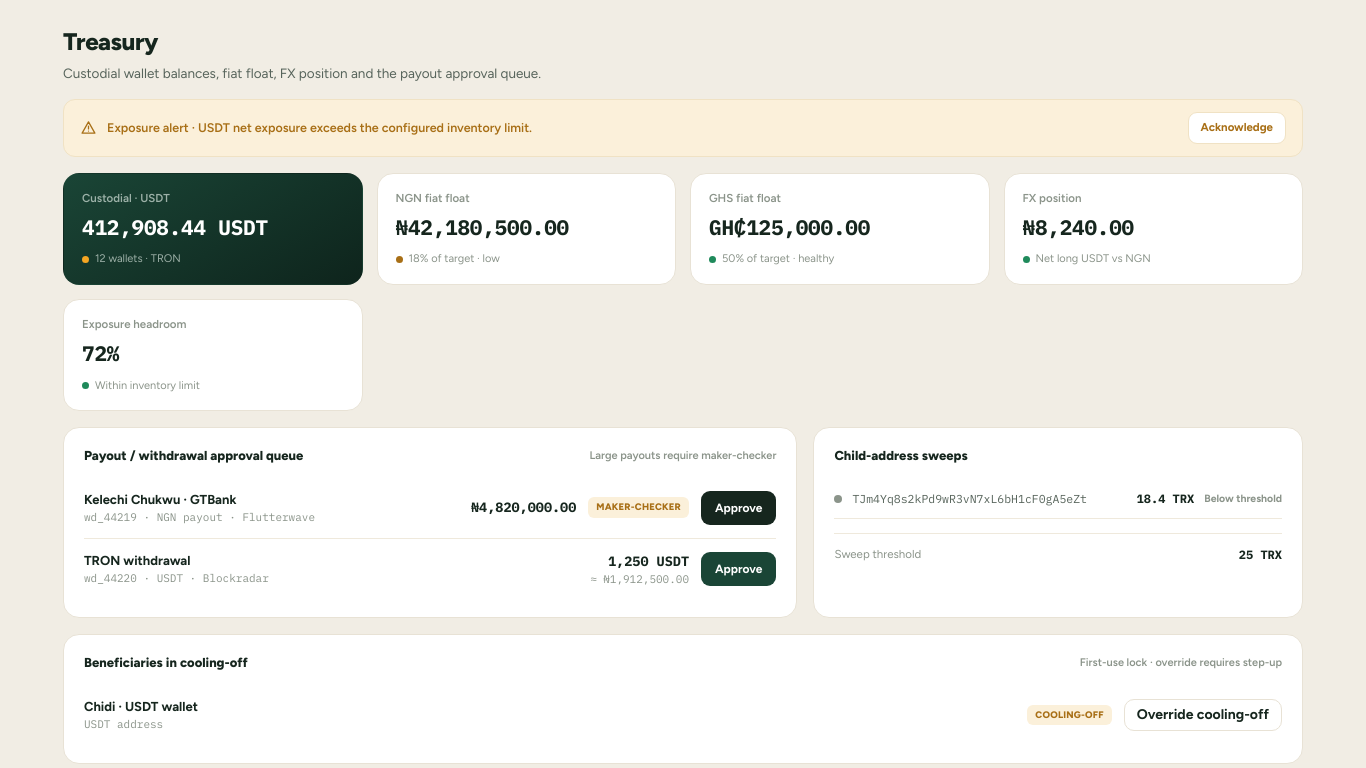
Test: TreasuryPage (write wiring) › marks the right row Requested after a 403 step-up replay (stashed row id)
The image size is (1366, 768).
Click the button "Approve" in the row of "₦4,820,000.00": (739, 508) [701, 490, 776, 524]
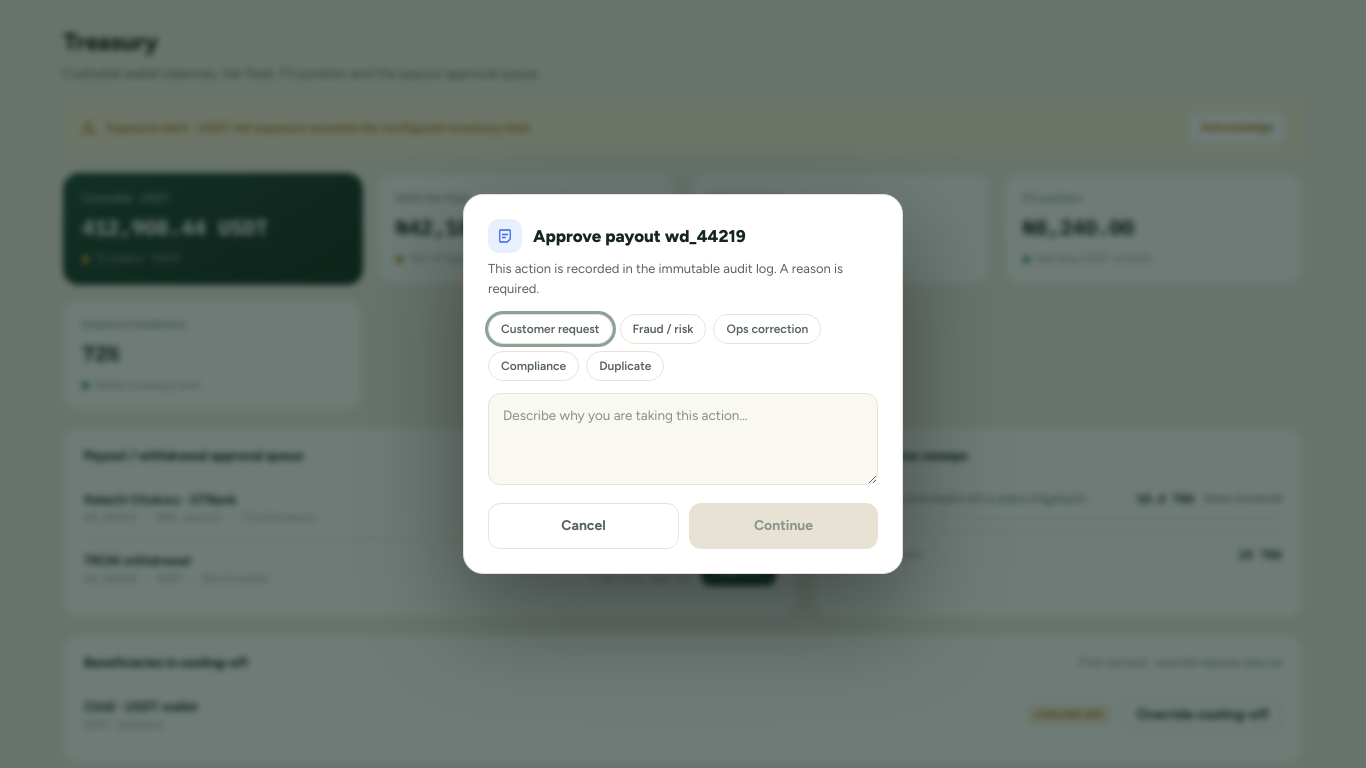
In the text box named "Reason": (683, 439) [488, 393, 878, 485], type "Checked totals"
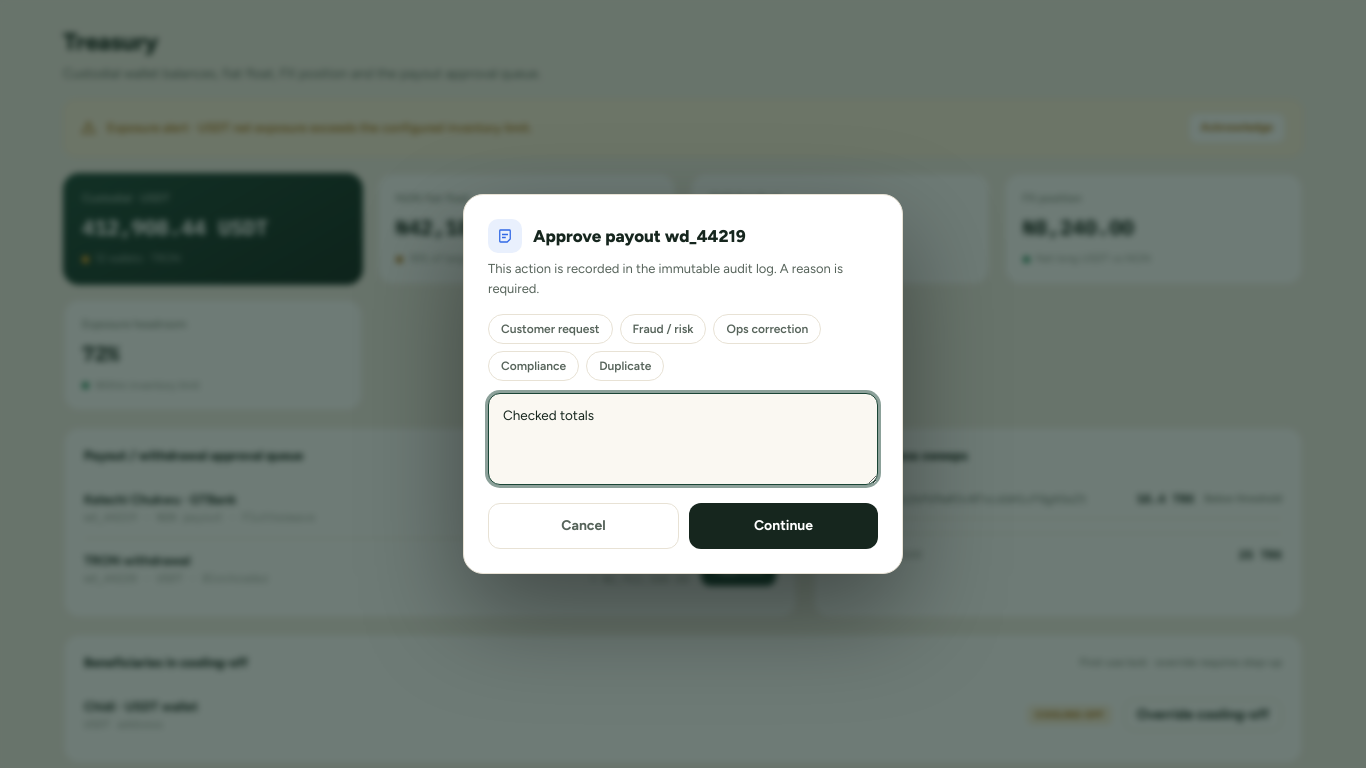
Click the button "Continue": (784, 526) [689, 503, 878, 549]
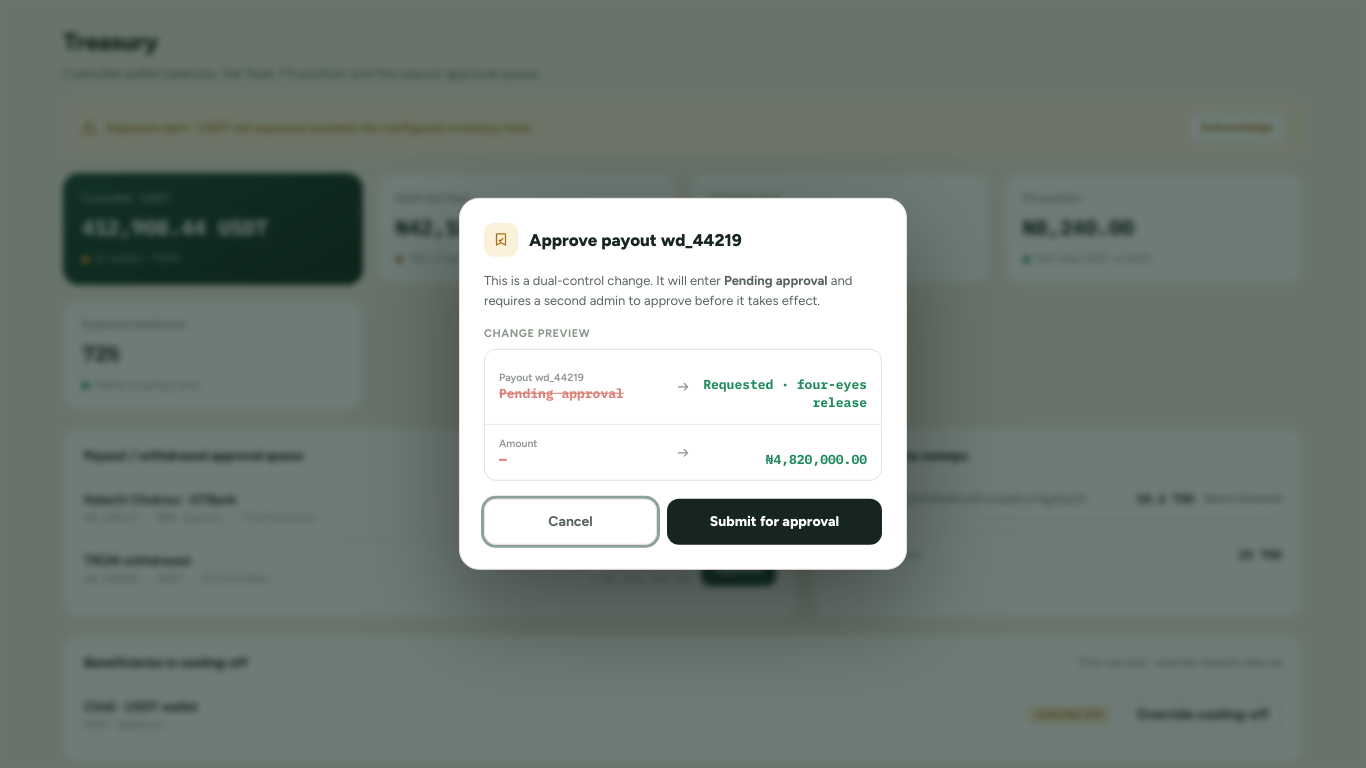
Click the button "Submit for approval": (774, 522) [667, 499, 882, 545]
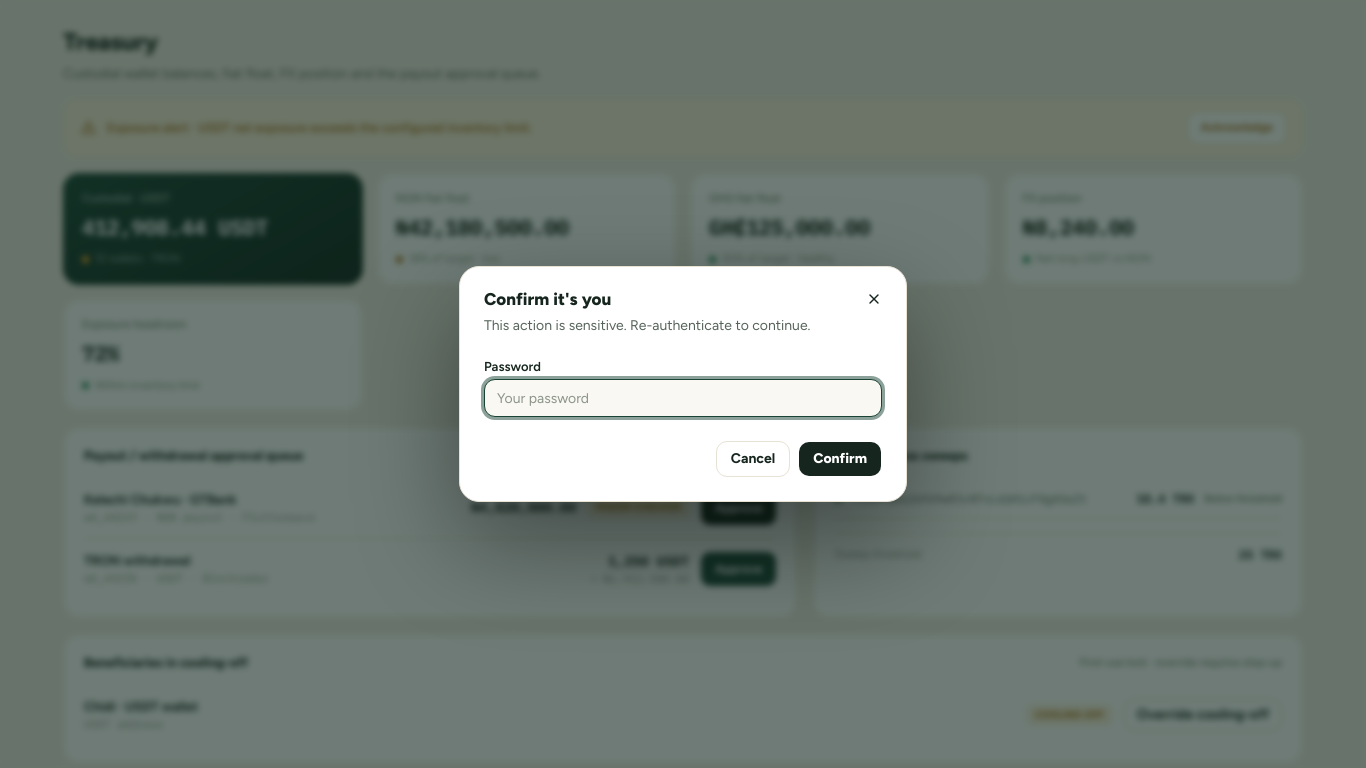
Expected: the dialog is shown, [459, 266, 907, 502]
In the password field labelled "Password": (683, 398) [484, 379, 882, 417], type "supersecret"
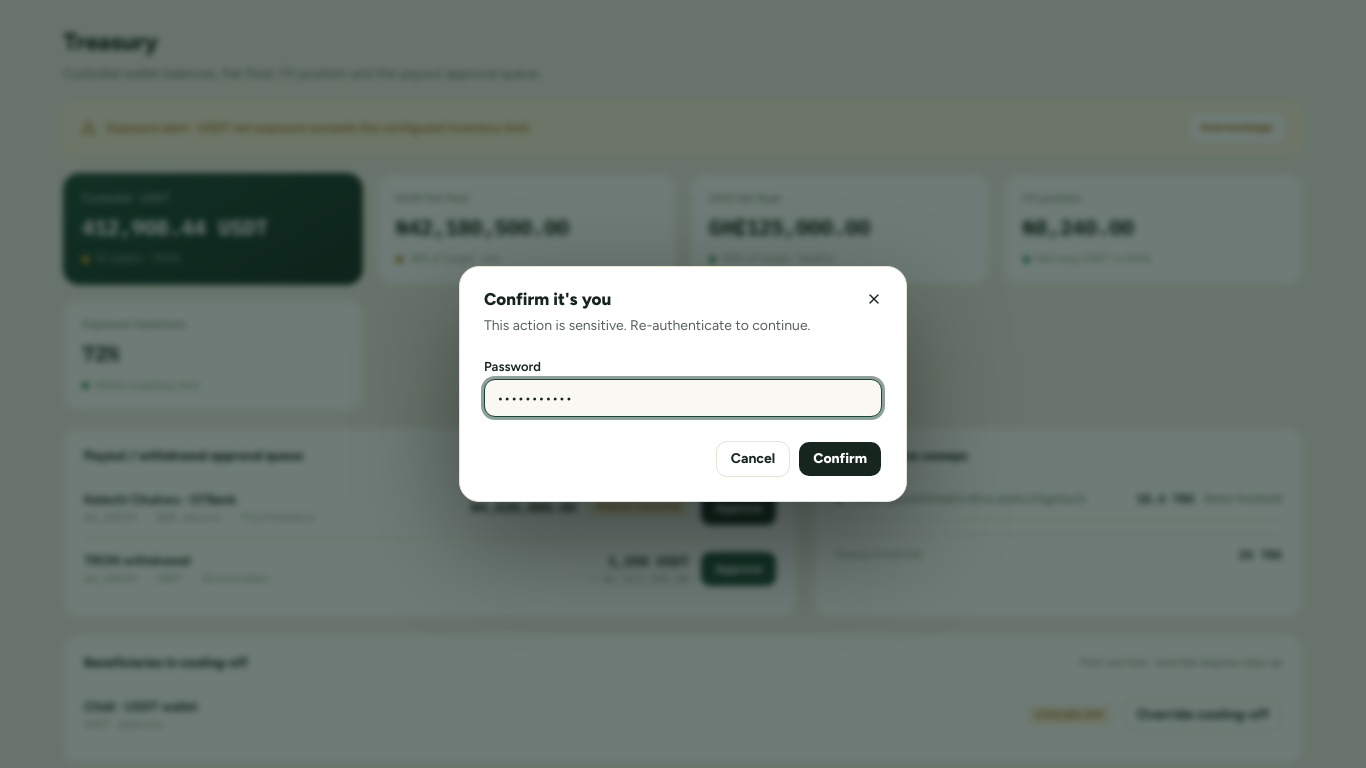
Click the button "Confirm": (840, 459) [798, 441, 882, 477]
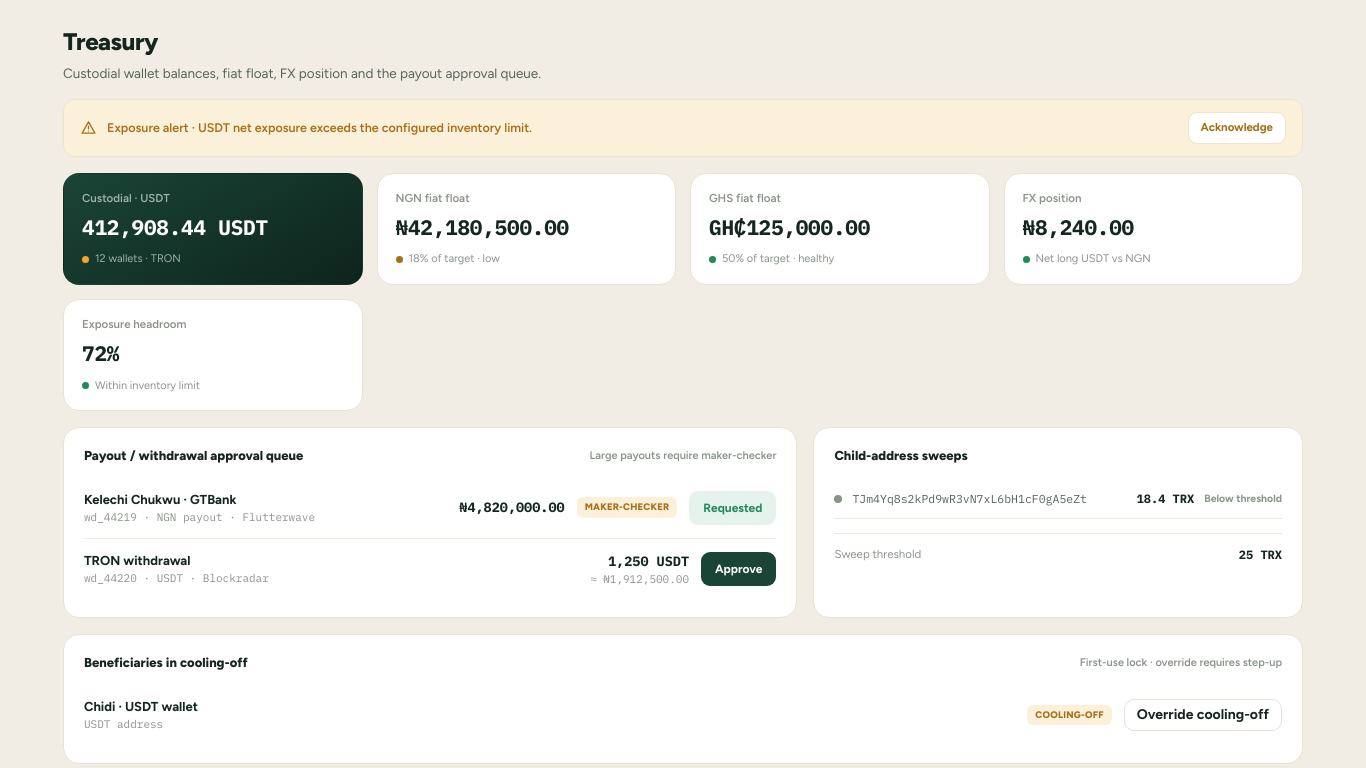
Expected: the text "Requested" is shown, [689, 490, 776, 524]
